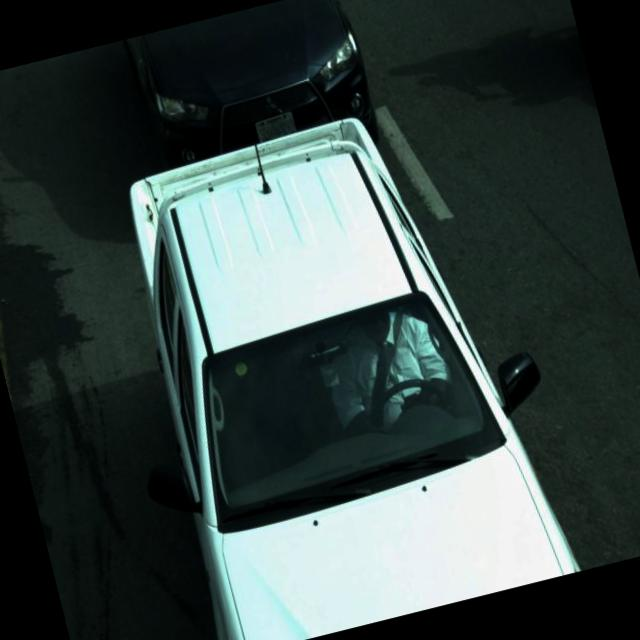person_with_seatbelt: (320, 293, 467, 454)
